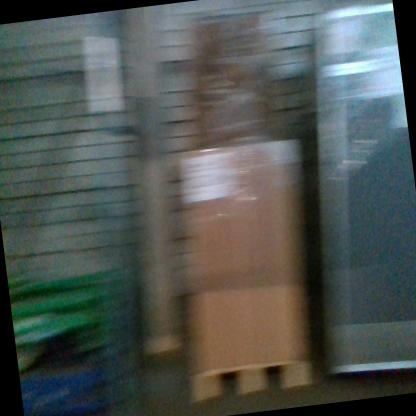pallet: (188, 352, 316, 405)
